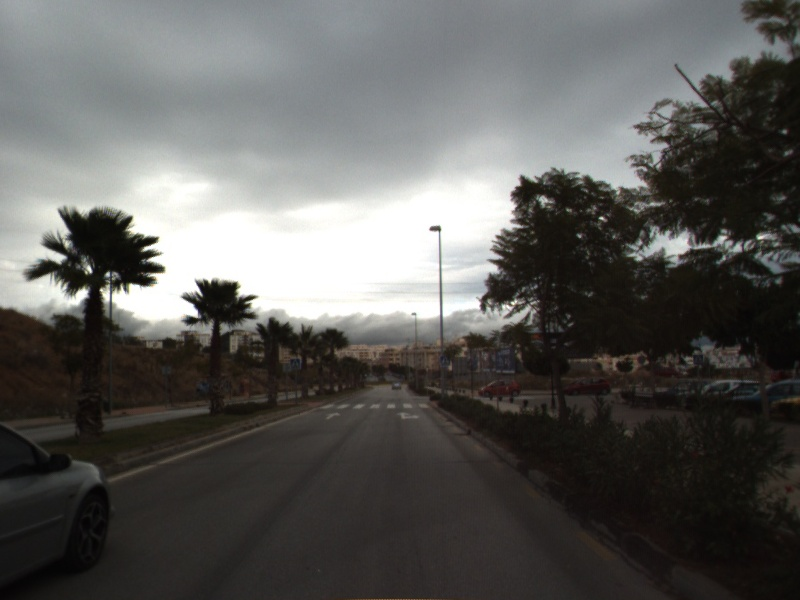STRAIGHT: (324, 410, 343, 421)
STRAIGHT_RIGHT: (395, 410, 422, 421)
